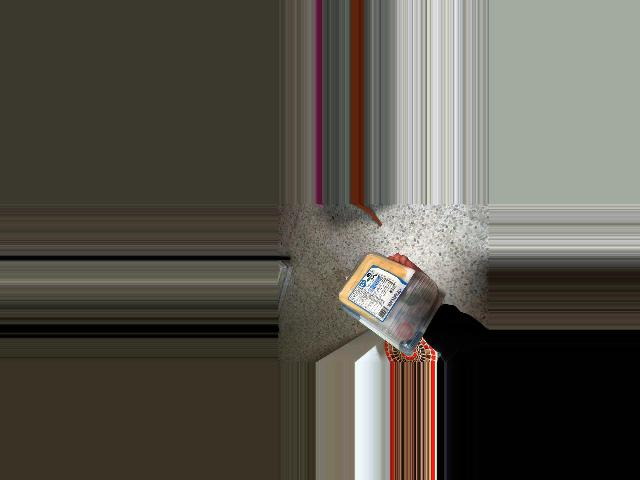cheese: (336, 262, 429, 314)
